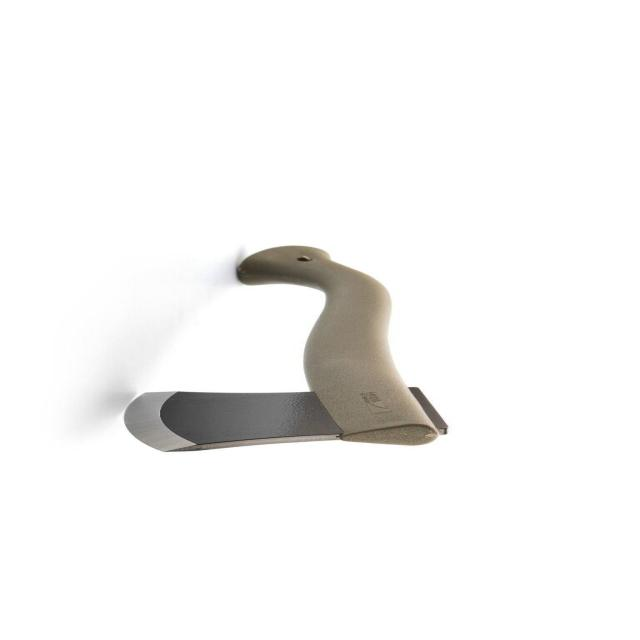Kapak: (133, 228, 442, 469)
